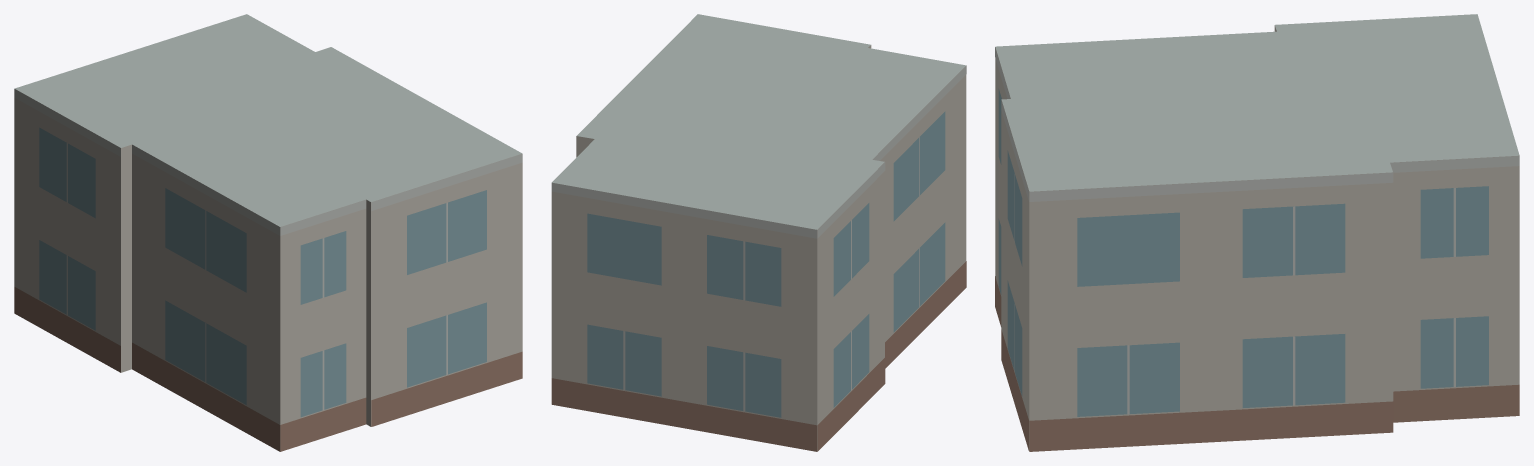
The model's file is survey-upis-32803338.glb.
3 renders of one model, left to right at view 1: azimuth 30°, elevation 25°; view 2: azimuth 150°, elevation 25°; view 3: azimuth 270°, elevation 25°, orthographic. The views are drawn at different scales.
Visible parts, largest first — view 1: survey-upis-32803338.tmp; view 2: survey-upis-32803338.tmp; view 3: survey-upis-32803338.tmp.
Boxes of the visible parts, x1,y1,x2,y2 form: survey-upis-32803338.tmp: (14, 14, 522, 451); survey-upis-32803338.tmp: (551, 14, 966, 451); survey-upis-32803338.tmp: (995, 14, 1519, 451).
Size of the model in its own units: 8.94 by 6.1 by 11.16.
